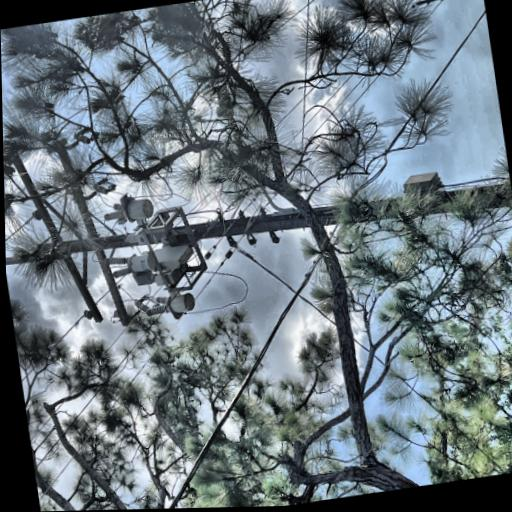insulator: (177, 150, 188, 163), (89, 204, 100, 216)
pole: (111, 14, 205, 510)
